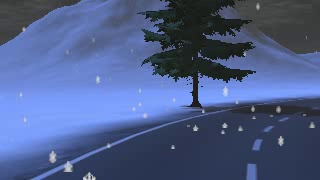Lane: (36, 97, 319, 179)
